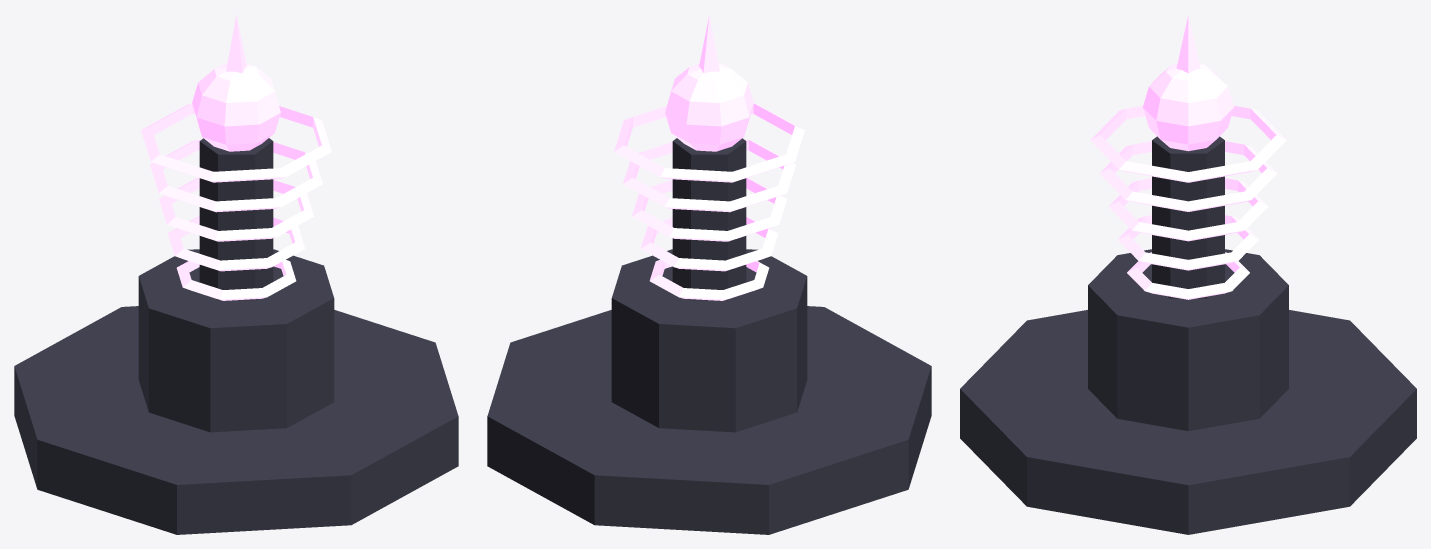
Rendered from tower_tesla.glb.
3 views of the same model, side by side, from view 1: azimuth 30°, elevation 25°; view 2: azimuth 150°, elevation 25°; view 3: azimuth 270°, elevation 25° (orthographic).
Visible parts, largest first — view 1: tower_tesla; view 2: tower_tesla; view 3: tower_tesla.
Part boxes in pixels (<box>): tower_tesla: <box>14,14,458,534</box>; tower_tesla: <box>487,14,931,534</box>; tower_tesla: <box>960,14,1416,534</box>.
Bounding box in the file's own units: 1 × 1.02 × 1.
